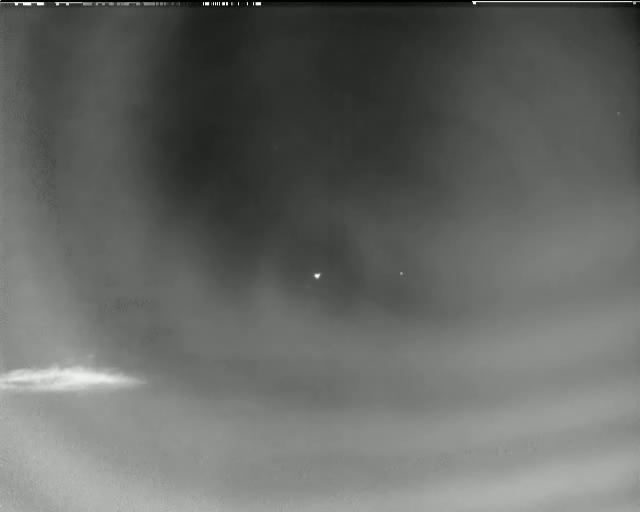uav: (313, 272, 323, 280)
